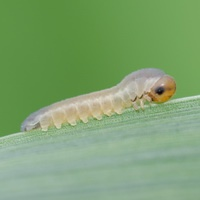insect: (21, 68, 175, 130)
